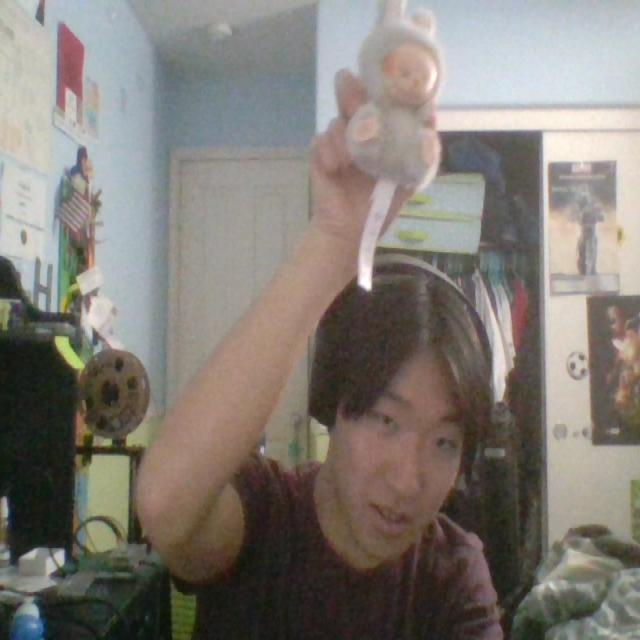labubu: (346, 0, 441, 191)
